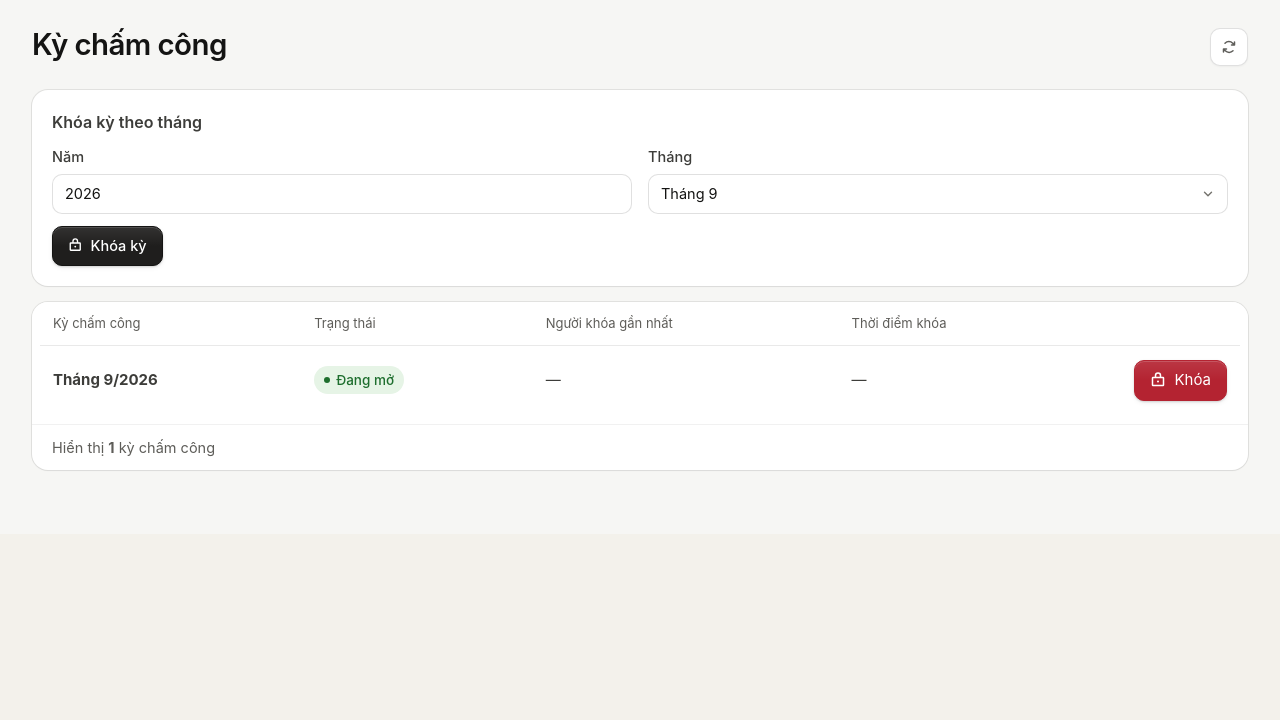
Test: TimesheetPeriodPage (NCL-06-CN-006 — Khóa kỳ chấm công) › khóa một kỳ OPEN có sẵn trong danh sách qua nút "Khóa"
Check: the row with test id "period-row-3" is shown, box 40,346 -> 1240,416
Click the button with test id "btn-lock-3" at (1181,380), box 1134,360 -> 1227,400
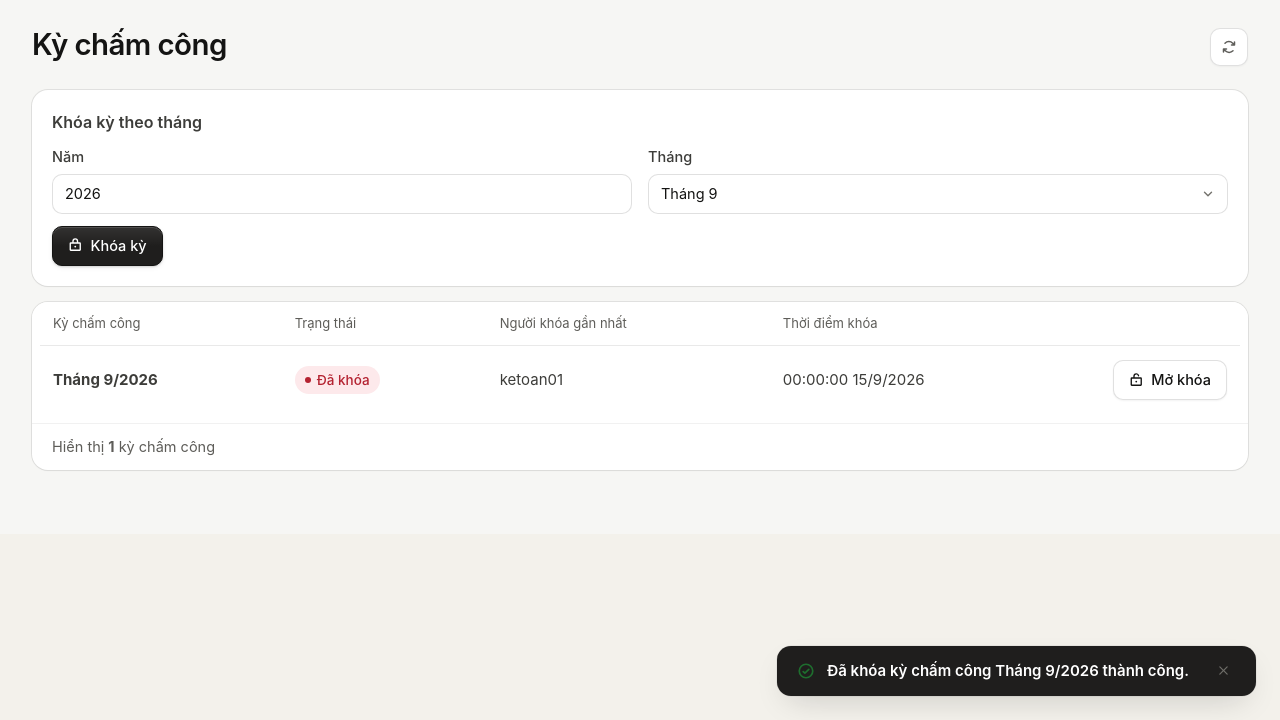
Check: the button with test id "btn-unlock-3" is shown, box 1113,360 -> 1227,400
